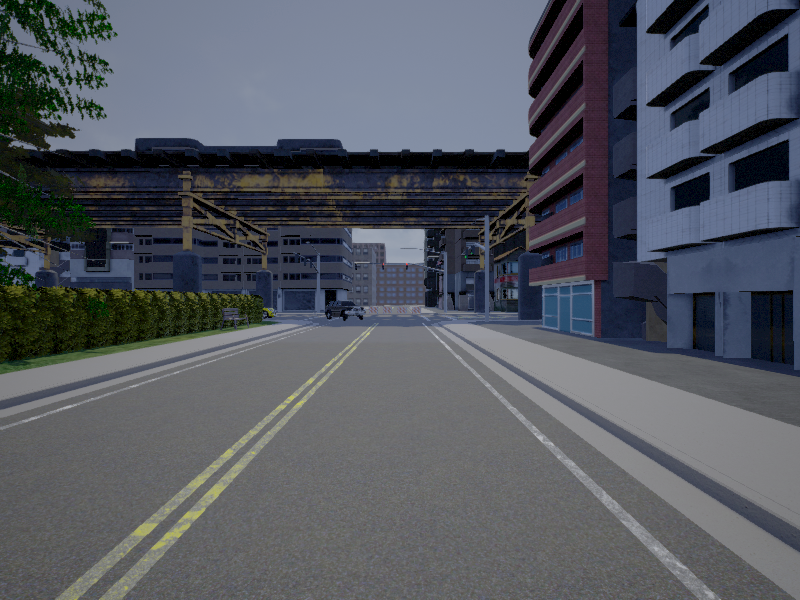Benign: (324, 300, 365, 322)
